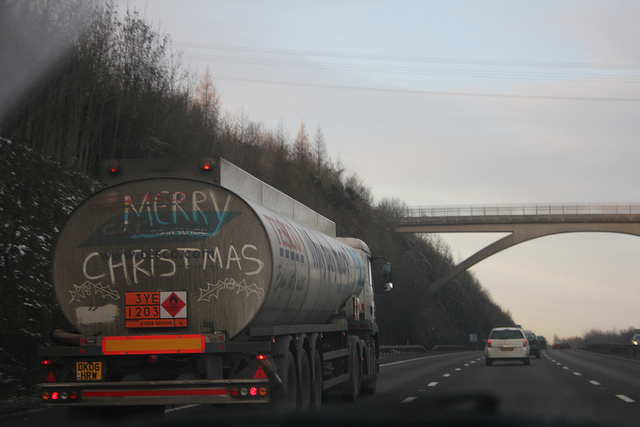Car: (486, 324, 533, 365)
Truck: (55, 151, 393, 405)
